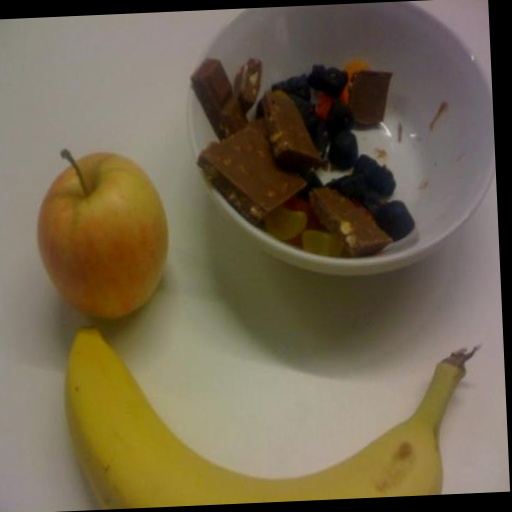fruit: (66, 328, 474, 509), (39, 152, 167, 318)
